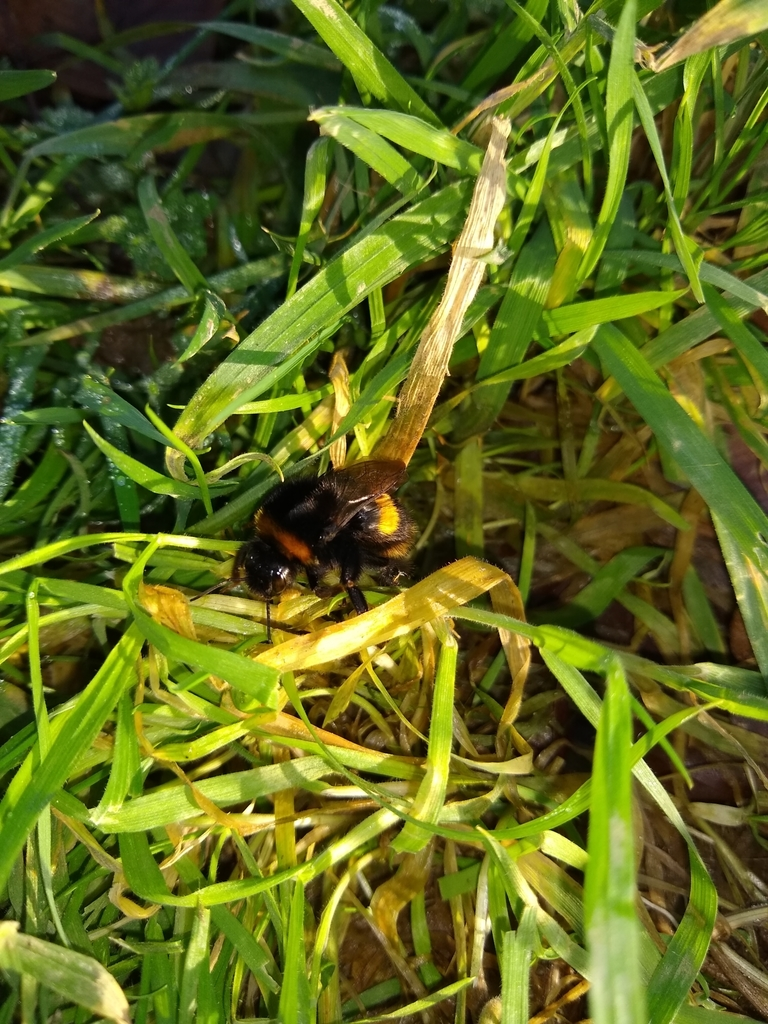bumblebee: (233, 457, 415, 629)
